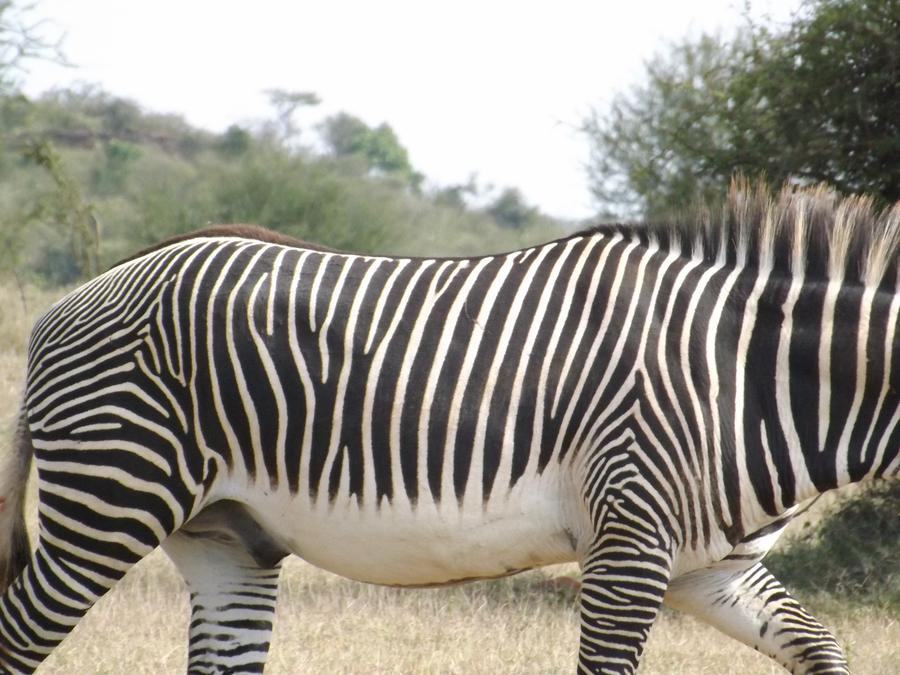zebra_grevys: (17, 185, 741, 561)
